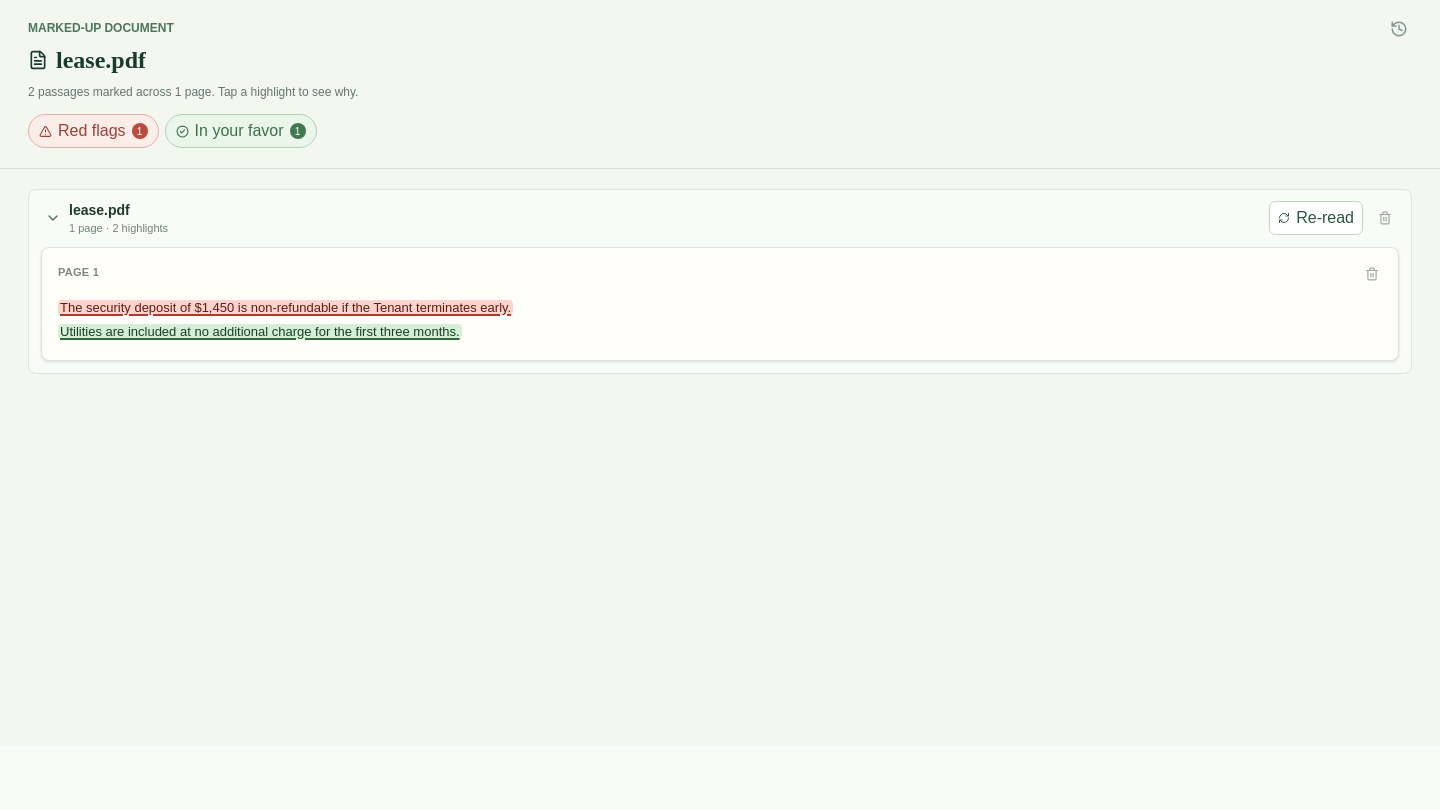
Test: the change history › lists each change and undoes just the one picked
This screenshot has width=1440, height=810.
Click the button with aria-label "Red flags: Money you may not get back" at (286, 307), box [58,300,513,314]
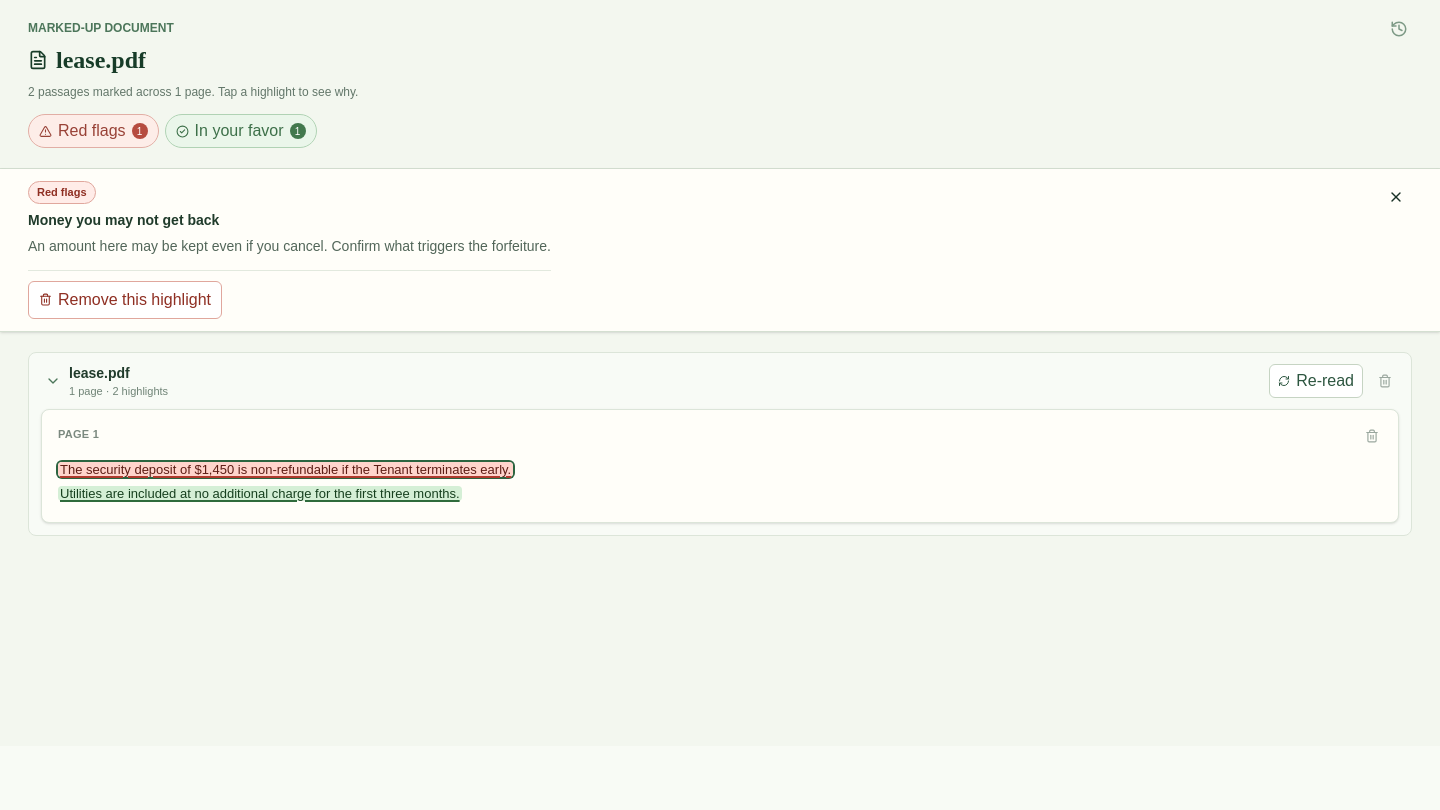
Click the button "Remove this highlight" at (125, 300), box [28,280,222,318]
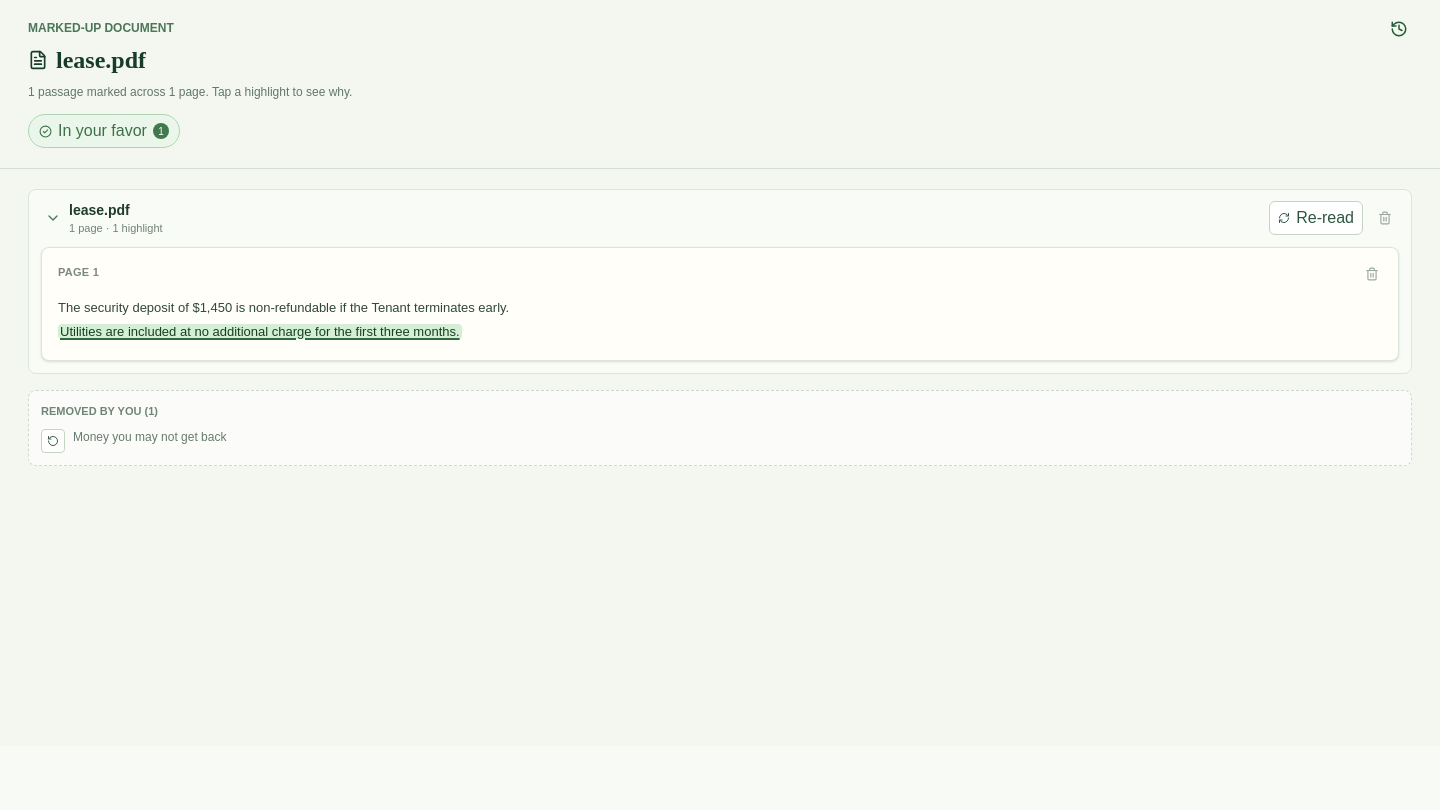
Click the button named "History" at (1399, 29), box [1386,16,1412,42]
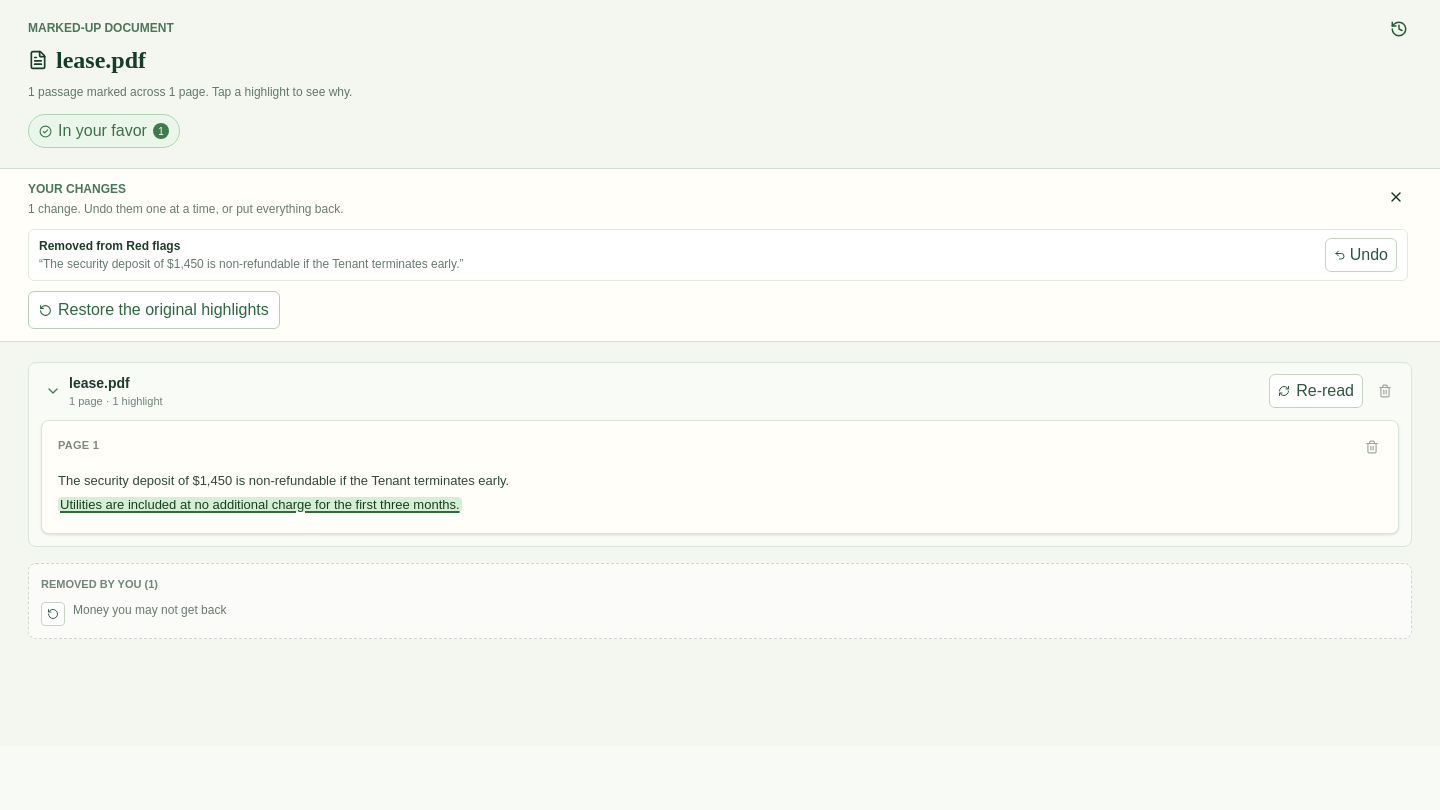
Result: the text "1 change. Undo them one at a time, or put everything back." is shown at [28,199,344,219]
Result: the text "Removed from Red flags" is shown at [39,239,180,253]
Click the button with aria-label "Undo:" at (1361, 255), box [1325,238,1397,272]
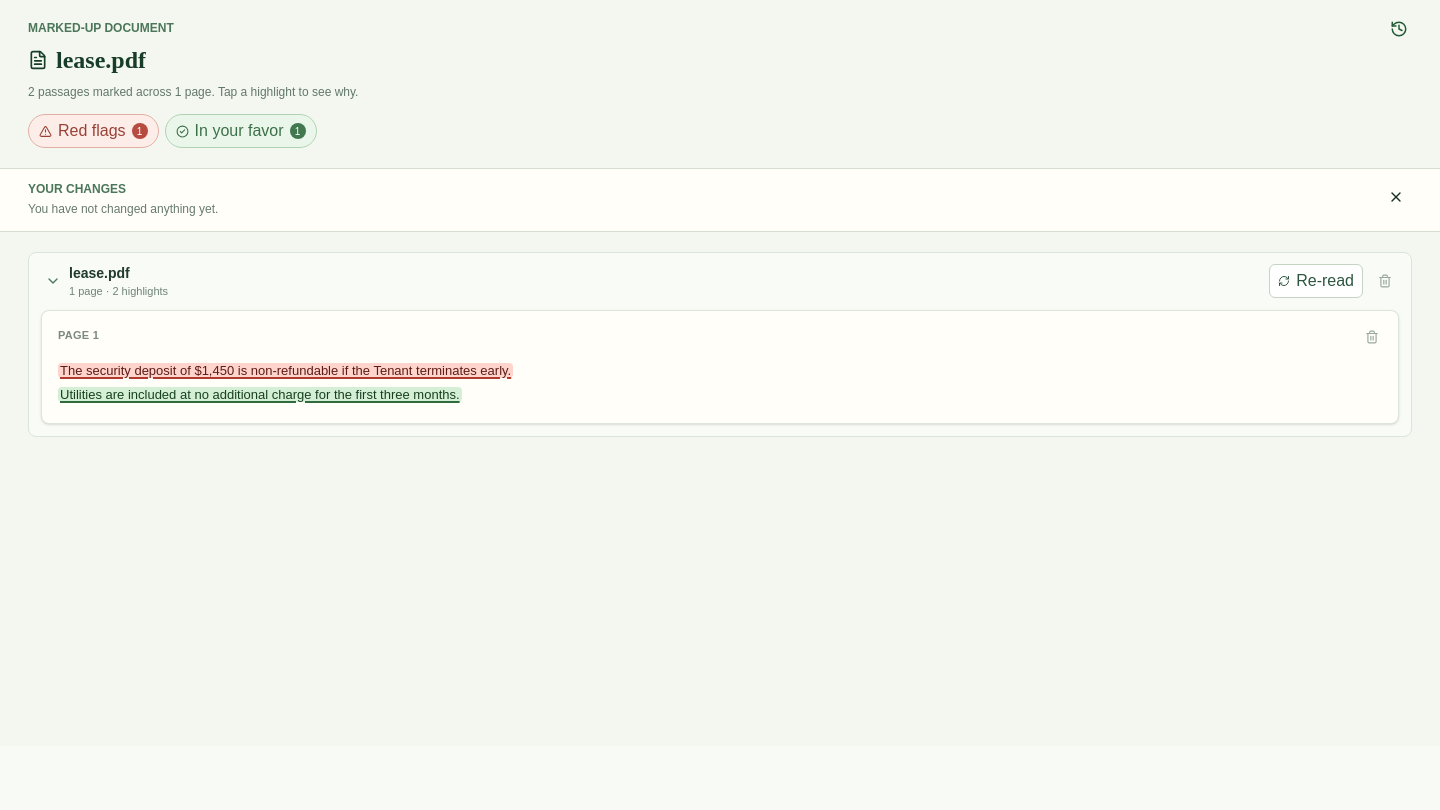
Result: the text "You have not changed anything yet." is shown at [28,199,218,219]
